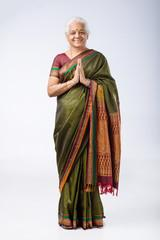Human: (42, 9, 125, 229)
